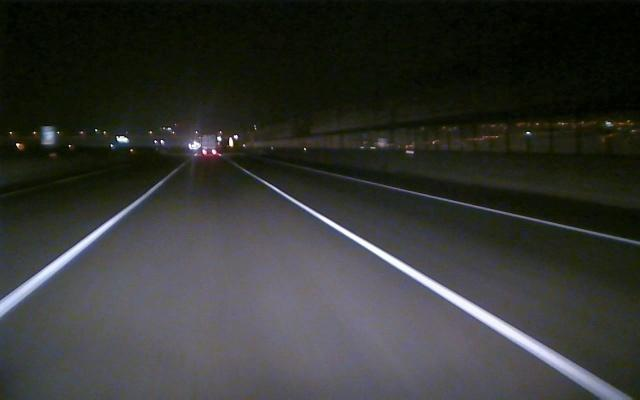lane: (252, 176, 629, 397), (3, 181, 163, 316), (358, 179, 640, 246)
